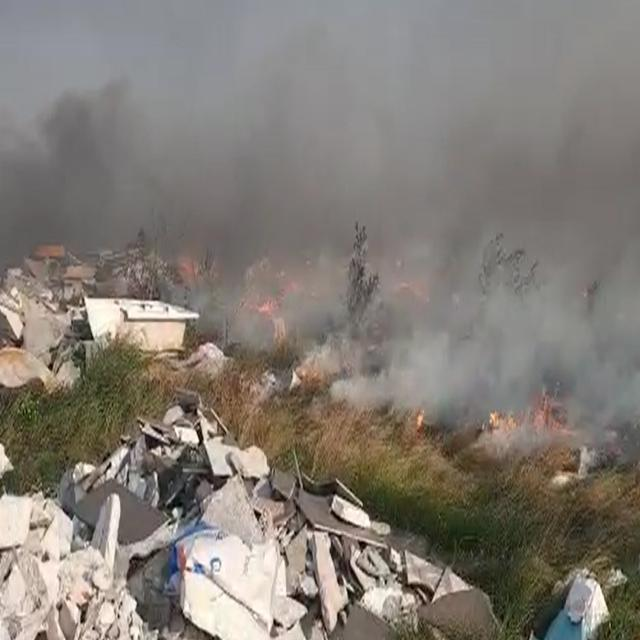Smoke: (0, 0, 635, 470)
